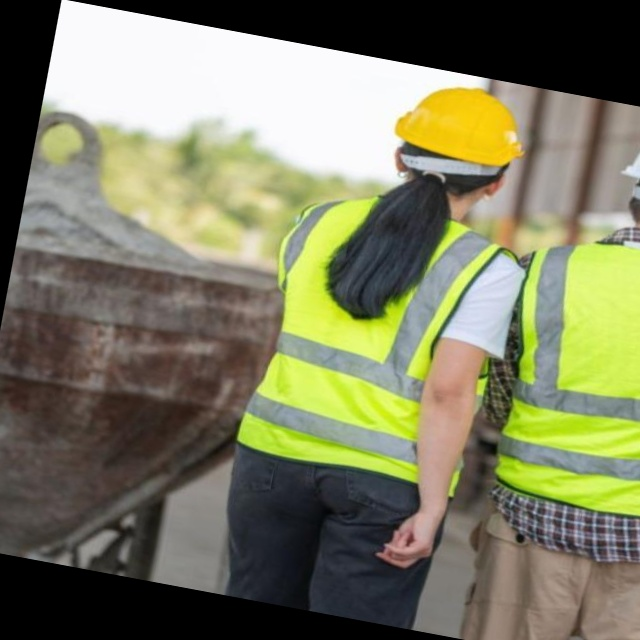Con_Casco: (385, 75, 535, 210), (613, 116, 640, 266)
Con_Chaleco: (240, 186, 517, 503), (484, 226, 640, 533)
